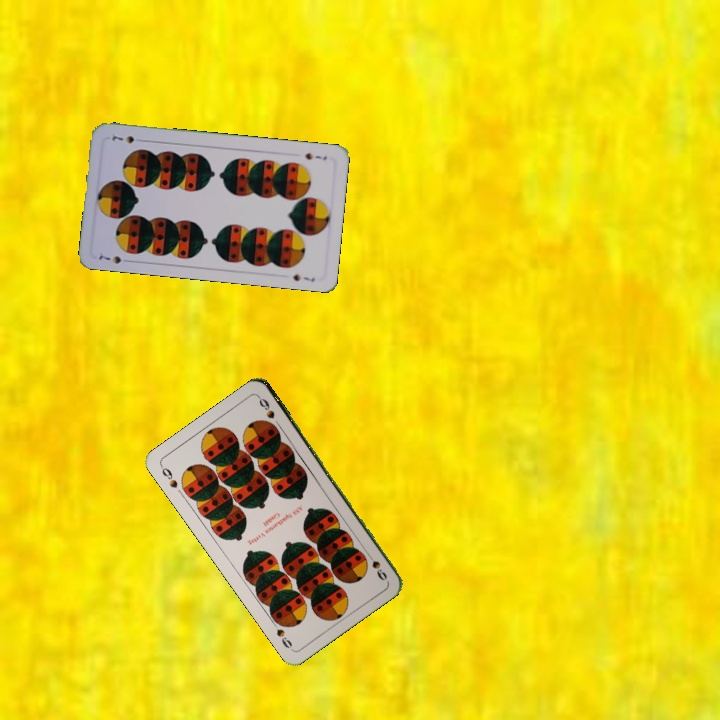S7: (95, 251, 133, 266), (301, 149, 329, 162)
S9: (362, 547, 390, 583), (157, 462, 180, 491)
